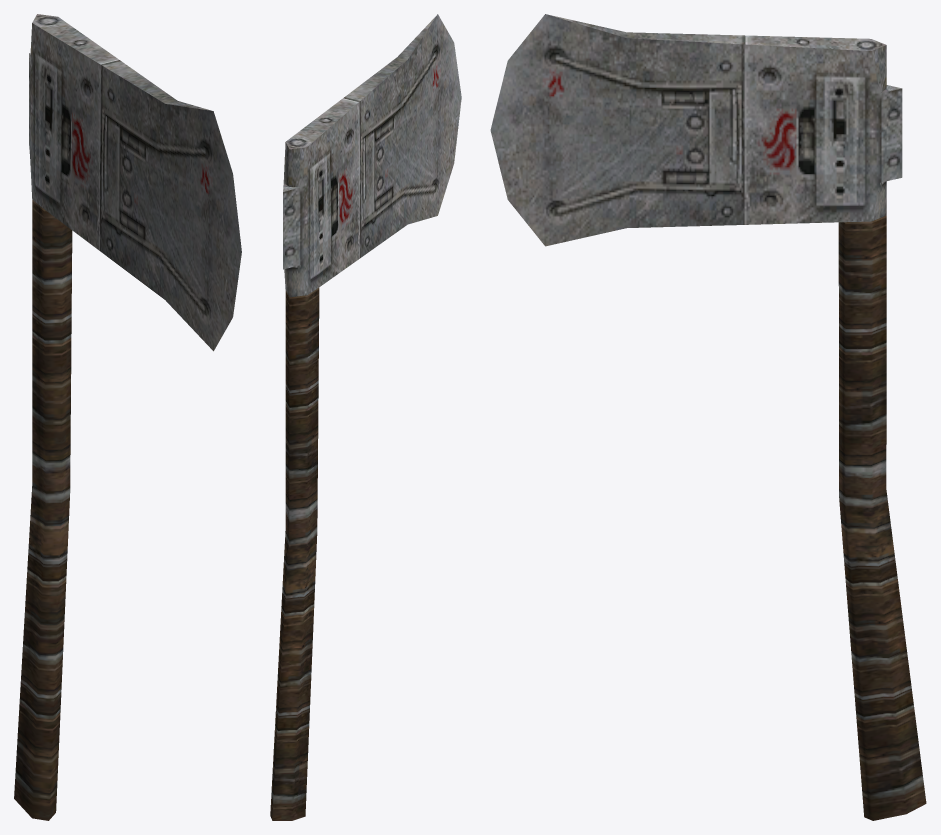
File: wp_mle_axe_vibroax_l1.fbx
The picture shows the model from 3 angles, left to right: view 1: azimuth 30°, elevation 25°; view 2: azimuth 150°, elevation 25°; view 3: azimuth 270°, elevation 25°; orthographic projection. The views are drawn at different scales.
Visible parts, largest first — view 1: mesh_node; view 2: mesh_node; view 3: mesh_node.
Boxes of the visible parts, <box> form: mesh_node: <box>14,14,241,820</box>; mesh_node: <box>270,14,461,820</box>; mesh_node: <box>490,14,926,820</box>.
Size of the model in its own units: 0.0262 by 0.7319 by 0.36.
1 material, 1 textured.
